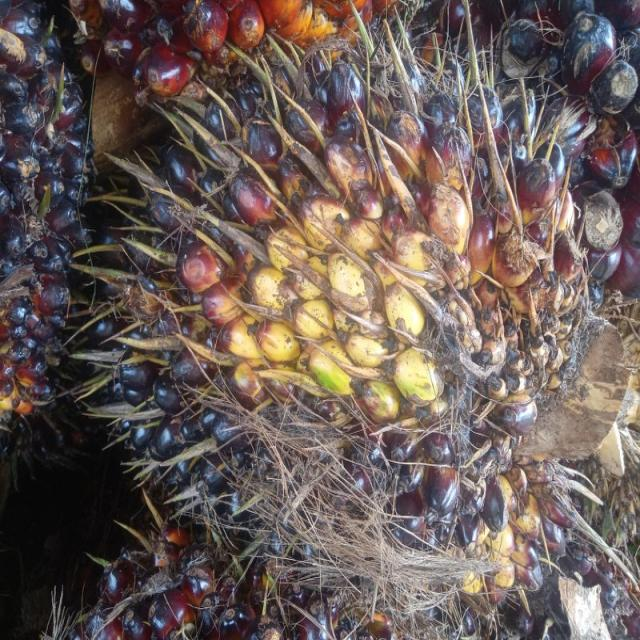fraksi 00: (106, 50, 592, 537)
